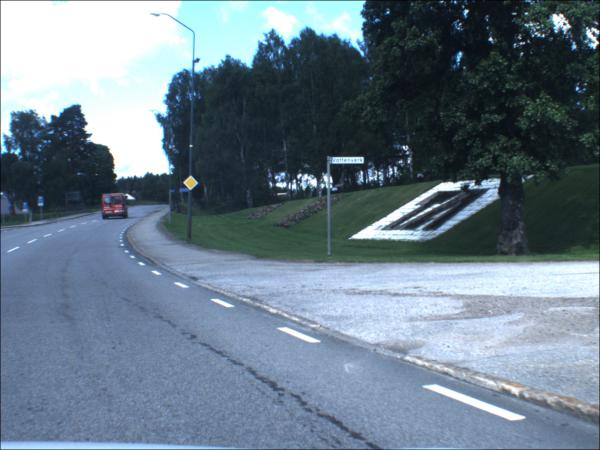PRIORITY_ROAD: (183, 176, 201, 193)
